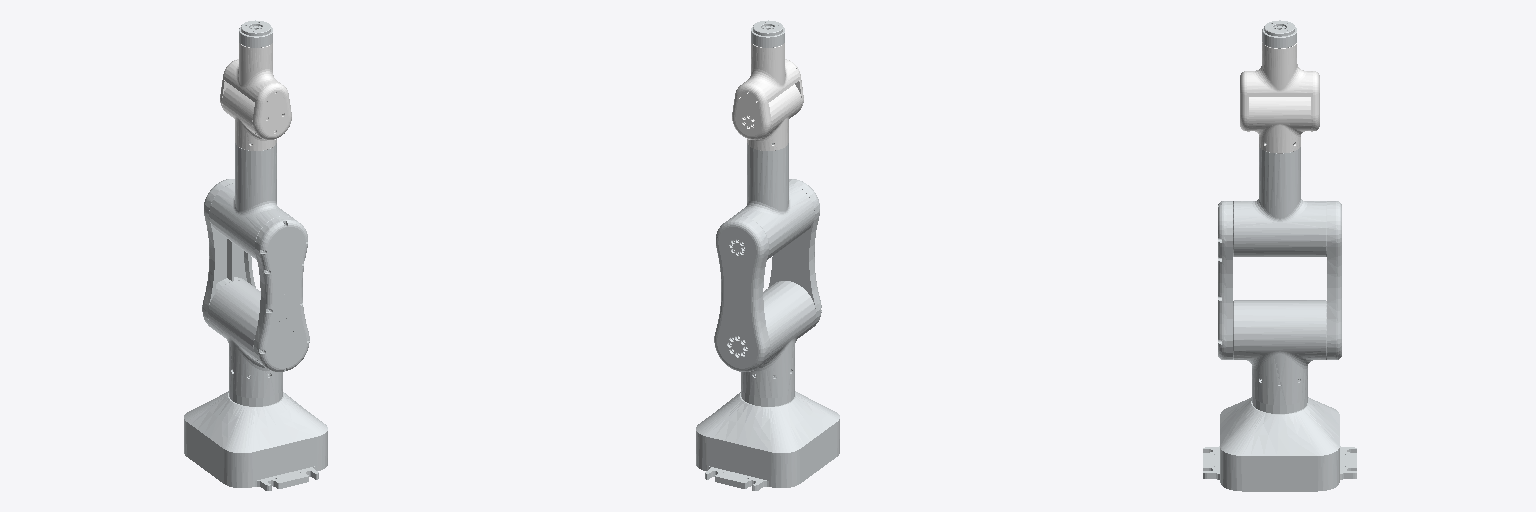
The robot description file, URDF, robot "robo003":
<?xml version="1.0" encoding="utf-8" ?>
<!-- This URDF was automatically created by SolidWorks to URDF Exporter! Originally created by [author] ([email redacted]) 
     Commit Version: 1.6.0-4-g7f85cfe  Build Version: 1.6.7995.38578
     For more information, please see http://wiki.ros.org/sw_urdf_exporter -->
<robot name="robo003">
    <link name="base_link">
        <inertial>
            <origin xyz="-0.000304184469232953 0.0860637611146329 1.41668822750461E-06" rpy="0 0 0" />
            <mass value="5.57701026403587" />
            <inertia ixx="0.0597505343283208" ixy="7.38043996929331E-05" ixz="-4.7430551135602E-07" iyy="0.0861966269799681" iyz="-7.67392008094531E-08" izz="0.0522935066711332" />
        </inertial>
        <visual>
            <origin xyz="0 0 0" rpy="0 0 0" />
            <geometry>
                <mesh filename="package://robo003/meshes/base_link.STL" />
            </geometry>
            <material name="">
                <color rgba="0.898039215686275 0.917647058823529 0.929411764705882 1" />
            </material>
        </visual>
        <collision>
            <origin xyz="0 0 0" rpy="0 0 0" />
            <geometry>
                <mesh filename="package://robo003/meshes/base_link.STL" />
            </geometry>
        </collision>
    </link>
    <link name="joint1">
        <inertial>
            <origin xyz="-0.000786226268113938 0.132619722512695 7.87138352613199E-06" rpy="0 0 0" />
            <mass value="3.18280121955983" />
            <inertia ixx="0.0178685952939478" ixy="-2.5960049270082E-06" ixz="-5.38430380613809E-07" iyy="0.0151298918332483" iyz="2.65307351356655E-06" izz="0.0205574218842982" />
        </inertial>
        <visual>
            <origin xyz="0 0 0" rpy="0 0 0" />
            <geometry>
                <mesh filename="package://robo003/meshes/joint1.STL" />
            </geometry>
            <material name="">
                <color rgba="0.898039215686275 0.917647058823529 0.929411764705882 1" />
            </material>
        </visual>
        <collision>
            <origin xyz="0 0 0" rpy="0 0 0" />
            <geometry>
                <mesh filename="package://robo003/meshes/joint1.STL" />
            </geometry>
        </collision>
    </link>
    <joint name="joint1" type="revolute">
        <origin xyz="0 0 0.1805" rpy="1.5708 0 1.5708" />
        <parent link="base_link" />
        <child link="joint1" />
        <axis xyz="0 1 0" />
        <limit lower="-1.5708" upper="1.5708" effort="0" velocity="0" />
    </joint>
    <link name="joint2">
        <inertial>
            <origin xyz="2.40280388017579E-07 0.12115140249013 -0.0108944792120279" rpy="0 0 0" />
            <mass value="4.27348175313308" />
            <inertia ixx="0.0538078227657746" ixy="-1.91991523344722E-08" ixz="-6.90036602522414E-09" iyy="0.0056902131009458" iyz="1.25265346953766E-05" izz="0.0589776805651485" />
        </inertial>
        <visual>
            <origin xyz="0 0 0" rpy="0 0 0" />
            <geometry>
                <mesh filename="package://robo003/meshes/joint2.STL" />
            </geometry>
            <material name="">
                <color rgba="0.898039215686275 0.917647058823529 0.929411764705882 1" />
            </material>
        </visual>
        <collision>
            <origin xyz="0 0 0" rpy="0 0 0" />
            <geometry>
                <mesh filename="package://robo003/meshes/joint2.STL" />
            </geometry>
        </collision>
    </link>
    <joint name="joint2" type="revolute">
        <origin xyz="0 0.159 0" rpy="3.1416 -1.5708 3.1416" />
        <parent link="joint1" />
        <child link="joint2" />
        <axis xyz="0 0 -1" />
        <limit lower="-2.2689" upper="2.2689" effort="0" velocity="0" />
    </joint>
    <link name="joint3">
        <inertial>
            <origin xyz="-0.000510813126142253 0.0242734029011726 -1.11271915080167E-06" rpy="0 0 0" />
            <mass value="2.68963687597783" />
            <inertia ixx="0.0169039358572733" ixy="-3.33071647438356E-05" ixz="-4.55013871413572E-07" iyy="0.012589380750116" iyz="5.42512451655288E-08" izz="0.0206552543424354" />
        </inertial>
        <visual>
            <origin xyz="0 0 0" rpy="0 0 0" />
            <geometry>
                <mesh filename="package://robo003/meshes/joint3.STL" />
            </geometry>
            <material name="">
                <color rgba="0.898039215686275 0.917647058823529 0.929411764705882 1" />
            </material>
        </visual>
        <collision>
            <origin xyz="0 0 0" rpy="0 0 0" />
            <geometry>
                <mesh filename="package://robo003/meshes/joint3.STL" />
            </geometry>
        </collision>
    </link>
    <joint name="joint3" type="revolute">
        <origin xyz="0 0.2525 0" rpy="0 1.5708 0" />
        <parent link="joint2" />
        <child link="joint3" />
        <axis xyz="1 0 0" />
        <limit lower="-2.4435" upper="2.4435" effort="0" velocity="0" />
    </joint>
    <link name="joint4">
        <inertial>
            <origin xyz="-0.00317241964858966 0.0803907732512233 -9.5896690655375E-07" rpy="0 0 0" />
            <mass value="0.784025839021277" />
            <inertia ixx="0.00213700406244951" ixy="1.48653016449947E-05" ixz="-2.19306779364702E-09" iyy="0.00203461442547586" iyz="-2.14277120927663E-08" izz="0.00230924254115065" />
        </inertial>
        <visual>
            <origin xyz="0 0 0" rpy="0 0 0" />
            <geometry>
                <mesh filename="package://robo003/meshes/joint4.STL" />
            </geometry>
            <material name="">
                <color rgba="1 1 1 1" />
            </material>
        </visual>
        <collision>
            <origin xyz="0 0 0" rpy="0 0 0" />
            <geometry>
                <mesh filename="package://robo003/meshes/joint4.STL" />
            </geometry>
        </collision>
    </link>
    <joint name="joint4" type="revolute">
        <origin xyz="0 0.21 0" rpy="0 0 0" />
        <parent link="joint3" />
        <child link="joint4" />
        <axis xyz="0 1 0" />
        <limit lower="-3.1416" upper="3.1416" effort="0" velocity="0" />
    </joint>
    <link name="joint5">
        <inertial>
            <origin xyz="-0.000439532424977056 0.0549114760753586 1.57356089211623E-07" rpy="0 0 0" />
            <mass value="1.26941406738451" />
            <inertia ixx="0.00265250597853083" ixy="-4.06168696588233E-07" ixz="-8.83676966697637E-09" iyy="0.00186985451408679" iyz="6.98955346797194E-09" izz="0.00270665169177479" />
        </inertial>
        <visual>
            <origin xyz="0 0 0" rpy="0 0 0" />
            <geometry>
                <mesh filename="package://robo003/meshes/joint5.STL" />
            </geometry>
            <material name="">
                <color rgba="1 1 1 1" />
            </material>
        </visual>
        <collision>
            <origin xyz="0 0 0" rpy="0 0 0" />
            <geometry>
                <mesh filename="package://robo003/meshes/joint5.STL" />
            </geometry>
        </collision>
    </link>
    <joint name="joint5" type="revolute">
        <origin xyz="0 0.0885 0" rpy="0 0 0" />
        <parent link="joint4" />
        <child link="joint5" />
        <axis xyz="1 0 0" />
        <limit lower="-1.5708" upper="1.5708" effort="0" velocity="0" />
    </joint>
    <link name="joint6">
        <inertial>
            <origin xyz="-0.0206979865603965 -1.7726705520138E-16 1.288207019101E-14" rpy="0 0 0" />
            <mass value="0.234228409519037" />
            <inertia ixx="0.000247204782741219" ixy="-2.94771121549233E-19" ixz="-2.58146184769438E-20" iyy="0.000146318783240265" iyz="2.26051917798491E-20" izz="0.000146318783240265" />
        </inertial>
        <visual>
            <origin xyz="0 0 0" rpy="0 0 0" />
            <geometry>
                <mesh filename="package://robo003/meshes/joint6.STL" />
            </geometry>
            <material name="">
                <color rgba="0.898039215686275 0.917647058823529 0.929411764705882 1" />
            </material>
        </visual>
        <collision>
            <origin xyz="0 0 0" rpy="0 0 0" />
            <geometry>
                <mesh filename="package://robo003/meshes/joint6.STL" />
            </geometry>
        </collision>
    </link>
    <joint name="joint6" type="revolute">
        <origin xyz="-0.0005 0.17 0" rpy="3.1405 0 -1.5708" />
        <parent link="joint5" />
        <child link="joint6" />
        <axis xyz="1 0 0" />
        <limit lower="-6.2832" upper="6.2832" effort="0" velocity="0" />
    </joint>
    <transmission name="trans_joint1">
        <type>transmission_interface/SimpleTransmission</type>
        <joint name="joint1">
            <hardwareInterface>hardware_interface/EffortJointInterface</hardwareInterface>
        </joint>
        <actuator name="joint1_motor">
            <hardwareInterface>hardware_interface/EffortJointInterface</hardwareInterface>
            <mechanicalReduction>1</mechanicalReduction>
        </actuator>
    </transmission>
    <transmission name="trans_joint2">
        <type>transmission_interface/SimpleTransmission</type>
        <joint name="joint2">
            <hardwareInterface>hardware_interface/EffortJointInterface</hardwareInterface>
        </joint>
        <actuator name="joint2_motor">
            <hardwareInterface>hardware_interface/EffortJointInterface</hardwareInterface>
            <mechanicalReduction>1</mechanicalReduction>
        </actuator>
    </transmission>
    <transmission name="trans_joint3">
        <type>transmission_interface/SimpleTransmission</type>
        <joint name="joint3">
            <hardwareInterface>hardware_interface/EffortJointInterface</hardwareInterface>
        </joint>
        <actuator name="joint3_motor">
            <hardwareInterface>hardware_interface/EffortJointInterface</hardwareInterface>
            <mechanicalReduction>1</mechanicalReduction>
        </actuator>
    </transmission>
    <transmission name="trans_joint4">
        <type>transmission_interface/SimpleTransmission</type>
        <joint name="joint4">
            <hardwareInterface>hardware_interface/EffortJointInterface</hardwareInterface>
        </joint>
        <actuator name="joint4_motor">
            <hardwareInterface>hardware_interface/EffortJointInterface</hardwareInterface>
            <mechanicalReduction>1</mechanicalReduction>
        </actuator>
    </transmission>
    <transmission name="trans_joint5">
        <type>transmission_interface/SimpleTransmission</type>
        <joint name="joint5">
            <hardwareInterface>hardware_interface/EffortJointInterface</hardwareInterface>
        </joint>
        <actuator name="joint5_motor">
            <hardwareInterface>hardware_interface/EffortJointInterface</hardwareInterface>
            <mechanicalReduction>1</mechanicalReduction>
        </actuator>
    </transmission>
    <transmission name="trans_joint6">
        <type>transmission_interface/SimpleTransmission</type>
        <joint name="joint6">
            <hardwareInterface>hardware_interface/EffortJointInterface</hardwareInterface>
        </joint>
        <actuator name="joint6_motor">
            <hardwareInterface>hardware_interface/EffortJointInterface</hardwareInterface>
            <mechanicalReduction>1</mechanicalReduction>
        </actuator>
    </transmission>
    <gazebo>
        <plugin name="gazebo_ros_control">
            <robotNamespace>/</robotNamespace>
        </plugin>
    </gazebo>
</robot>

--- Render facts (derived) ---
3 views of the same robot in one strip: view 1: azimuth 30°, elevation 25°; view 2: azimuth 150°, elevation 25°; view 3: azimuth 270°, elevation 25° (orthographic).
Model robo003 with 7 links and 6 joints (6 revolute), rooted at base_link, posed every joint at zero.
Visible links, largest first — view 1: base_link, joint2, joint3, joint1, joint5, joint4, joint6; view 2: base_link, joint2, joint3, joint1, joint5, joint4, joint6; view 3: base_link, joint1, joint3, joint2, joint5, joint4, joint6.
Link boxes in pixels (left/top/right/bottom): base_link: left=184, top=374, right=327, bottom=490; joint2: left=202, top=179, right=309, bottom=371; joint3: left=209, top=143, right=296, bottom=259; joint1: left=208, top=281, right=282, bottom=397; joint5: left=220, top=43, right=291, bottom=139; joint4: left=222, top=84, right=282, bottom=150; joint6: left=239, top=20, right=272, bottom=47; base_link: left=696, top=374, right=839, bottom=490; joint2: left=714, top=179, right=821, bottom=371; joint3: left=730, top=143, right=814, bottom=259; joint1: left=741, top=281, right=815, bottom=397; joint5: left=732, top=43, right=803, bottom=139; joint4: left=747, top=84, right=801, bottom=150; joint6: left=751, top=20, right=784, bottom=47; base_link: left=1203, top=382, right=1356, bottom=491; joint1: left=1233, top=300, right=1326, bottom=405; joint3: left=1233, top=143, right=1326, bottom=256; joint2: left=1218, top=201, right=1341, bottom=359; joint5: left=1240, top=42, right=1319, bottom=131; joint4: left=1249, top=97, right=1310, bottom=153; joint6: left=1262, top=20, right=1296, bottom=48.
Bounding box of the posed robot: 0.27 × 0.35 × 1.1 m (x, y, z).
Meshes: 7 distinct files referenced, 7 mesh visuals loaded (7 binary STL).